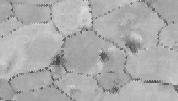good_void: (125, 39, 143, 55), (50, 53, 63, 68), (102, 86, 122, 94), (100, 51, 111, 63)
